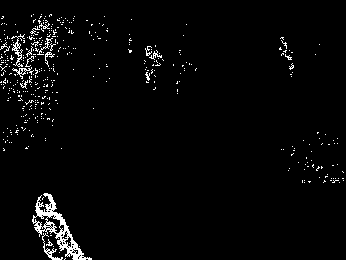person: (31, 192, 93, 259)
